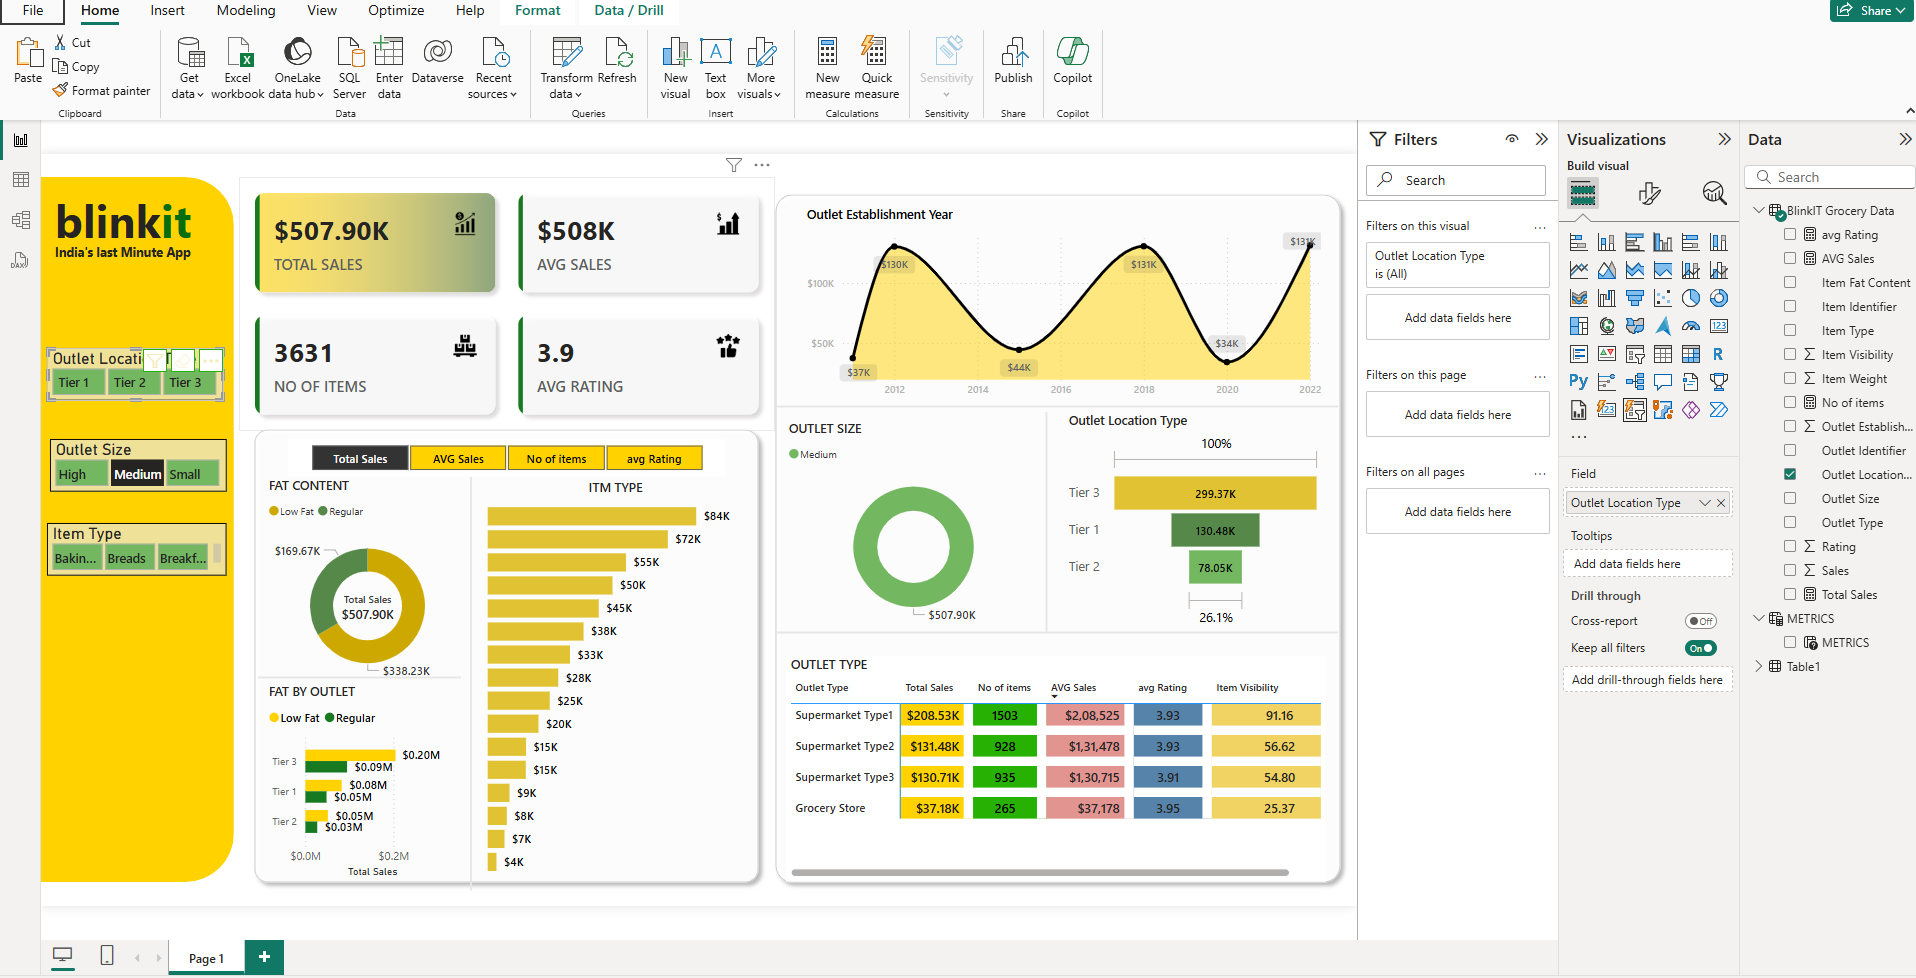

This screenshot's page, from the dashboard's own definition file:
{"tool":"powerbi","page":{"name":"Page 1","canvas":[1400,800],"ordinal":0},"visuals":[{"type":"shape","box":[0,24.5,205.3,750],"z":0},{"type":"textbox","box":[256.4,702.1,201.1,72.3],"z":1000},{"type":"textbox","box":[9.6,31.9,162.8,81.9],"z":2000},{"type":"textbox","box":[9.6,90.4,164.9,31.9],"z":3000},{"type":"cardVisual","fields":{"Data":["BlinkIT Grocery Data.Total Sales","BlinkIT Grocery Data.AVG Sales","BlinkIT Grocery Data.No of items","BlinkIT Grocery Data.avg Rating"]},"box":[210.6,24.5,570.2,270.2],"z":4000},{"type":"shape","box":[218.1,284,554.3,500],"z":5000},{"type":"donutChart","title":"FAT CONTENT","fields":{"Y":["BlinkIT Grocery Data.Total Sales"],"Category":["BlinkIT Grocery Data.Item Fat Content"]},"box":[237.2,343.6,220.2,229.8],"z":6000},{"type":"slicer","fields":{"Values":["METRICS.METRICS"]},"box":[262.8,303.2,464.9,40.4],"z":7000},{"type":"cardVisual","fields":{"Data":["BlinkIT Grocery Data.Total Sales"]},"box":[298.9,448.9,97.9,59.6],"z":8000},{"type":"clusteredBarChart","title":"FAT BY OUTLET","fields":{"Y":["BlinkIT Grocery Data.Total Sales"],"Category":["BlinkIT Grocery Data.Outlet Location Type"],"Series":["BlinkIT Grocery Data.Item Fat Content"]},"box":[237.2,562.8,209.6,211.7],"z":9000},{"type":"shape","box":[230.9,551.1,216,11.7],"z":10000},{"type":"shape","box":[407.4,343.6,100,440.4],"z":11000},{"type":"barChart","title":"ITM TYPE","fields":{"Y":["BlinkIT Grocery Data.Total Sales"],"Category":["BlinkIT Grocery Data.Item Type"]},"box":[470.2,345.7,281.9,422.3],"z":12000},{"type":"shape","box":[772.3,34,619.1,750],"z":13000},{"type":"lineChart","title":" Outlet Establishment Year","fields":{"Category":["BlinkIT Grocery Data.Outlet Establishment Year"],"Y":["BlinkIT Grocery Data.Total Sales"]},"box":[809.6,55.3,557.4,212.8],"z":14000},{"type":"shape","box":[783,262.8,596.8,11.7],"z":15000},{"type":"donutChart","title":"OUTLET SIZE","fields":{"Category":["BlinkIT Grocery Data.Outlet Size"],"Y":["BlinkIT Grocery Data.Total Sales"]},"box":[790.4,283,275.5,225.5],"z":16000},{"type":"shape","box":[1024.5,274.5,90.4,234],"z":17000},{"type":"funnel","title":" Outlet Location Type","fields":{"Category":["BlinkIT Grocery Data.Outlet Location Type"],"Y":["Sum(BlinkIT Grocery Data.Sales)"]},"box":[1088.3,274.5,278.7,234],"z":18000},{"type":"shape","box":[780.9,495.7,598.9,26.6],"z":19000},{"type":"pivotTable","title":"OUTLET TYPE","fields":{"Values":["BlinkIT Grocery Data.Total Sales","BlinkIT Grocery Data.No of items","BlinkIT Grocery Data.AVG Sales","BlinkIT Grocery Data.avg Rating","Sum(BlinkIT Grocery Data.Item Visibility)"],"Rows":["BlinkIT Grocery Data.Outlet Type"]},"box":[792.6,534,574.5,240.4],"z":20000},{"type":"advancedSlicerVisual","fields":{"Values":["BlinkIT Grocery Data.Outlet Location Type"]},"box":[6.4,206.4,188.3,56.4],"z":20001},{"type":"advancedSlicerVisual","fields":{"Values":["BlinkIT Grocery Data.Outlet Size"]},"box":[9.6,303.2,188.3,56.4],"z":20002},{"type":"advancedSlicerVisual","fields":{"Values":["BlinkIT Grocery Data.Item Type"]},"box":[6.4,392.6,191.5,56.4],"z":20003}]}

Visuals, with their boxes on the page's 1400x800 design canvas (x1, y1, x2, y2). These are canvas units, not pixel positions in the 1916x978 screenshot, which may show the page scaled, cropped or inside an application window:
shape: (0,24,205,774)
textbox: (256,702,458,774)
textbox: (10,32,172,114)
textbox: (10,90,174,122)
cardVisual - BlinkIT Grocery Data.Total Sales x BlinkIT Grocery Data.AVG Sales: (211,24,781,295)
shape: (218,284,772,784)
"FAT CONTENT" donutChart: (237,344,457,573)
slicer - METRICS.METRICS: (263,303,728,344)
cardVisual - BlinkIT Grocery Data.Total Sales: (299,449,397,508)
"FAT BY OUTLET" clusteredBarChart: (237,563,447,774)
shape: (231,551,447,563)
shape: (407,344,507,784)
"ITM TYPE" barChart: (470,346,752,768)
shape: (772,34,1391,784)
" Outlet Establishment Year" lineChart: (810,55,1367,268)
shape: (783,263,1380,274)
"OUTLET SIZE" donutChart: (790,283,1066,508)
shape: (1024,274,1115,508)
" Outlet Location Type" funnel: (1088,274,1367,508)
shape: (781,496,1380,522)
"OUTLET TYPE" pivotTable: (793,534,1367,774)
advancedSlicerVisual - BlinkIT Grocery Data.Outlet Location Type: (6,206,195,263)
advancedSlicerVisual - BlinkIT Grocery Data.Outlet Size: (10,303,198,360)
advancedSlicerVisual - BlinkIT Grocery Data.Item Type: (6,393,198,449)
